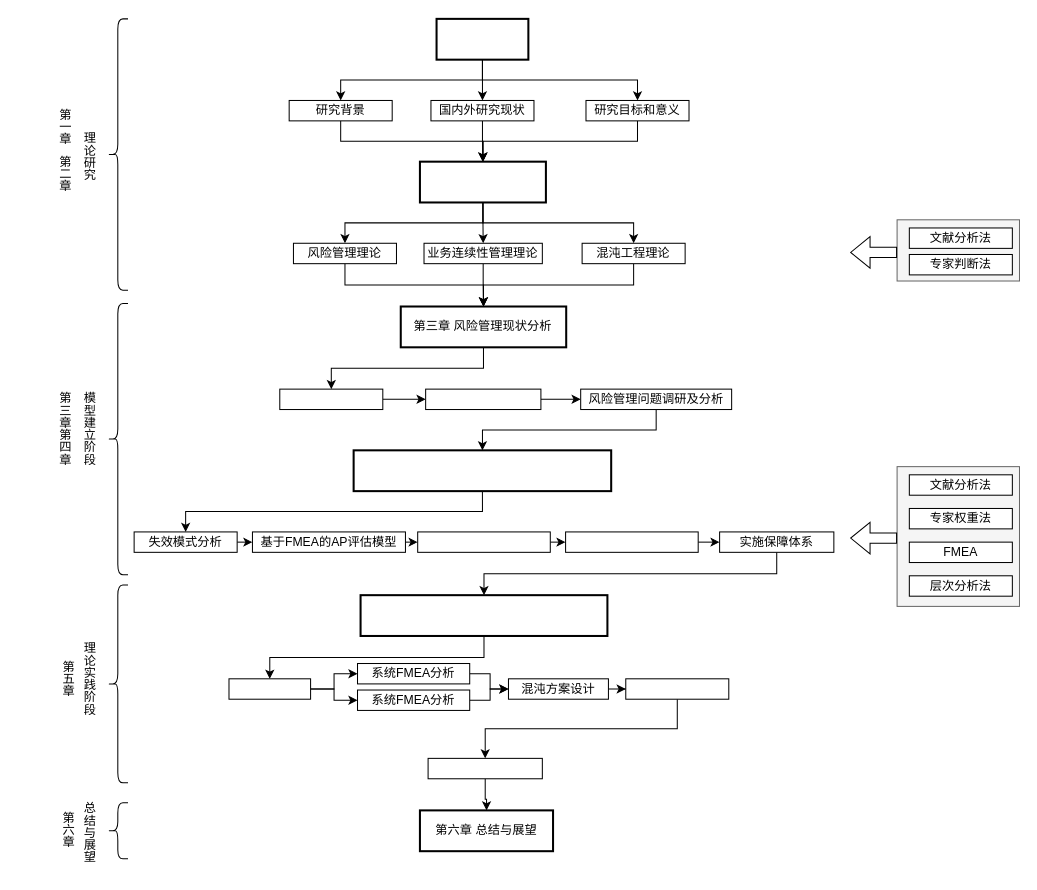
The diagram is 1037 pixels wide and 890 high, and some of its shapes have lost their labels. The centre of each missing label's shape, as x and y in pixels:
FMEA-CHAOS 框架: (483,541)
Y系统风险管理现状: (483,399)
业务连续性改进框架: (631,541)
改进措施与验证: (484,768)
混沌工程实践: (677,688)
第一章 绪论: (482,38)
第二章理论综述: (482,181)
第五章 T集团Y系统FMEA方法实践: (483,615)
第四章 融合FMEA与混沌工程的方法设计: (482,470)
组织架构: (269,688)
项目背景: (331,399)
